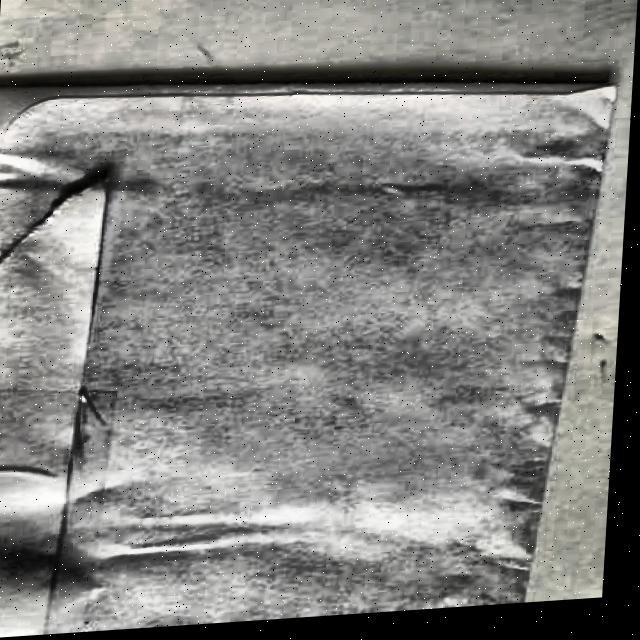paper: (0, 46, 620, 640)
